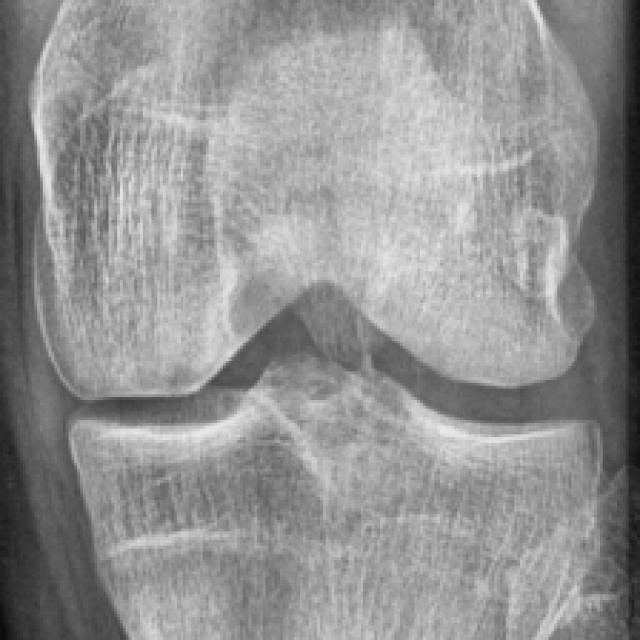femur: (37, 1, 591, 394)
tibia: (71, 354, 594, 637)
